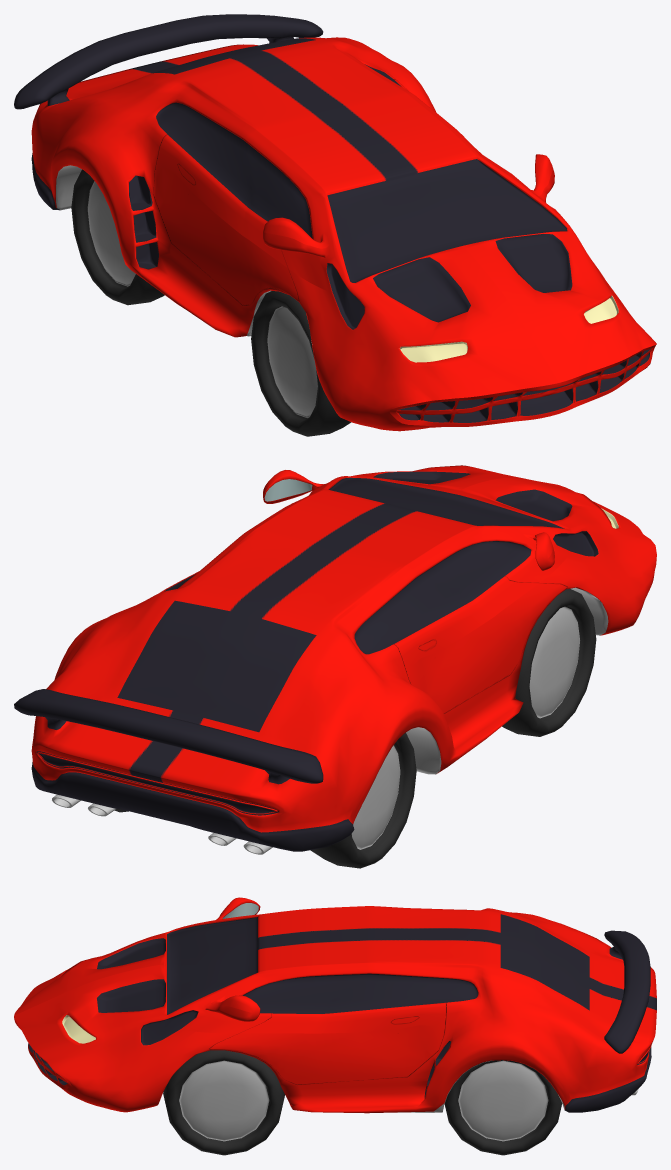
File: Lamborgini.FBX
The picture shows the model from 3 angles, top to bottom: view 1: azimuth 30°, elevation 25°; view 2: azimuth 150°, elevation 25°; view 3: azimuth 270°, elevation 25°; orthographic projection. The views are drawn at different scales.
Parts seen in each view (by area): view 1: Box001, Cylinder004, Cylinder003; view 2: Box001, Cylinder004, Cylinder003; view 3: Box001, Cylinder001, Cylinder002.
Boxes of the visible parts, x1,y1,x2,y2 form: Box001: (14,14,656,431); Cylinder004: (251,291,351,436); Cylinder003: (71,169,164,305); Box001: (14,465,656,854); Cylinder004: (502,588,596,736); Cylinder003: (310,732,416,868); Box001: (14,897,656,1113); Cylinder001: (163,1050,284,1155); Cylinder002: (444,1060,562,1155).
Size of the model in its own units: 43.85 by 28.49 by 95.82.
Materials: 2 (2 with a texture image).
